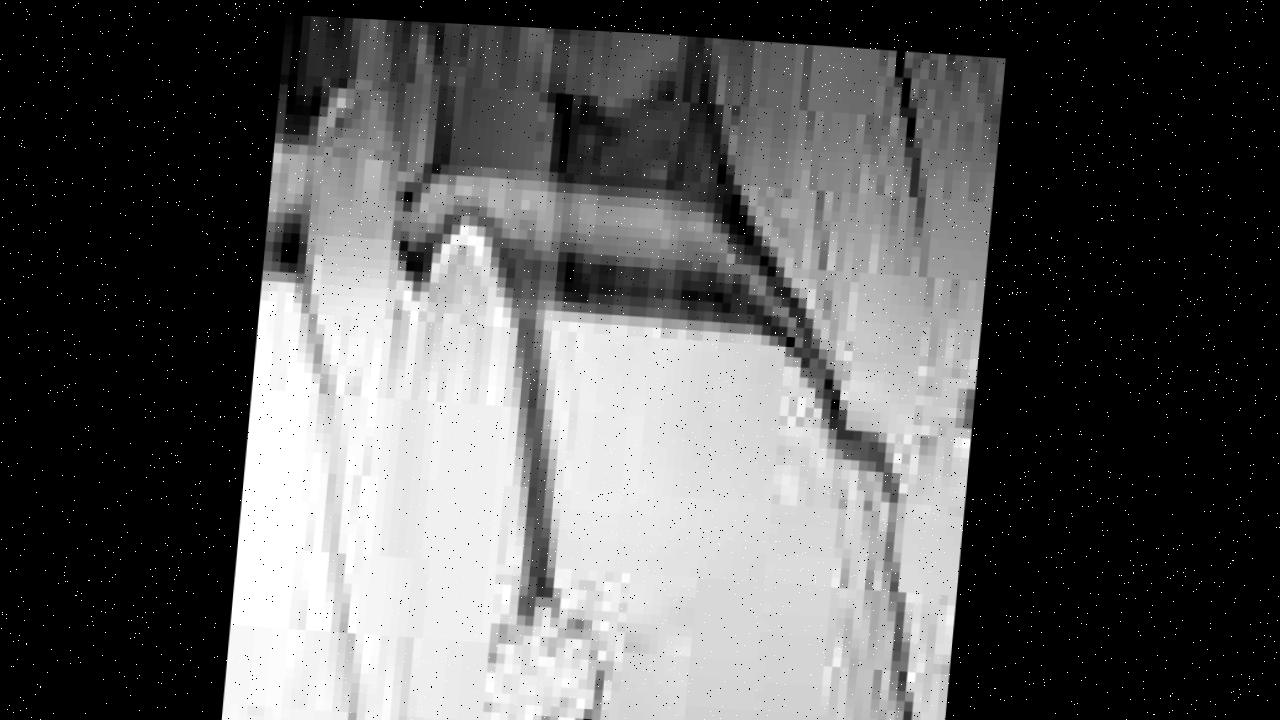Water Stains: (232, 11, 1006, 720)
